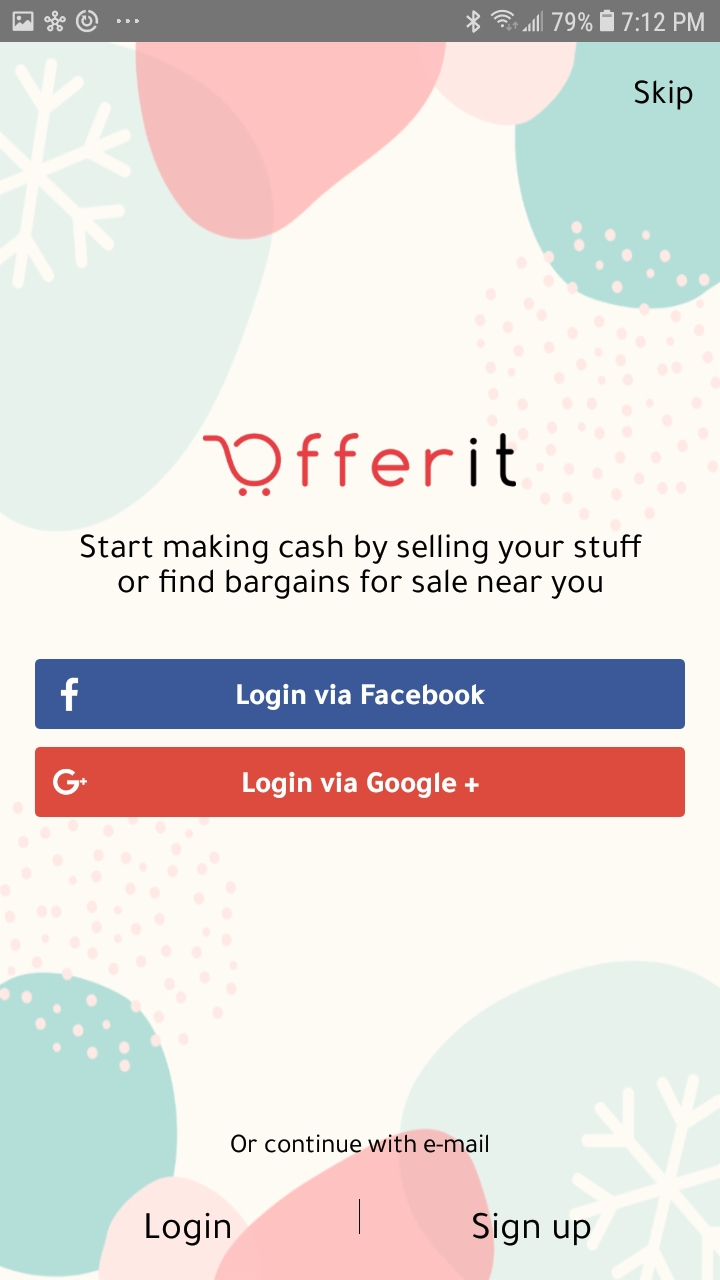BackgroundImage: (1, 43, 720, 1280)
Image: (203, 433, 518, 497)
Text: (81, 534, 643, 600), (231, 1133, 490, 1153), (472, 1211, 592, 1246), (146, 1212, 231, 1247), (634, 80, 694, 112)
TextButton: (35, 747, 685, 818), (35, 659, 685, 730)
UpperTaskBar: (1, 2, 720, 43)
